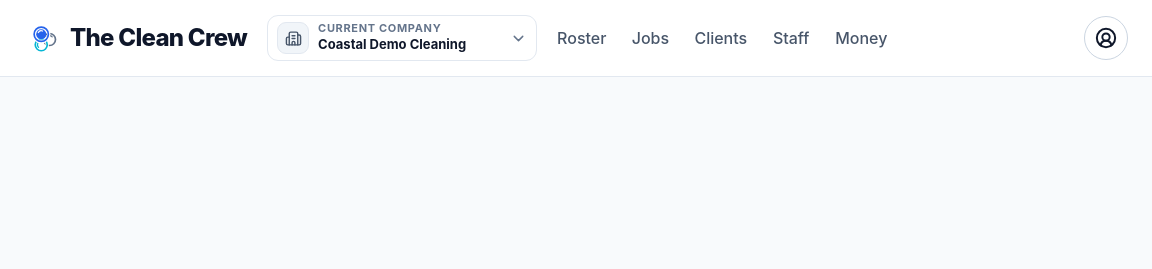
CrmHeader › offers personal settings to staff
Click the button named "Account menu" at x=1106, y=38, box [1084,16,1128,60]
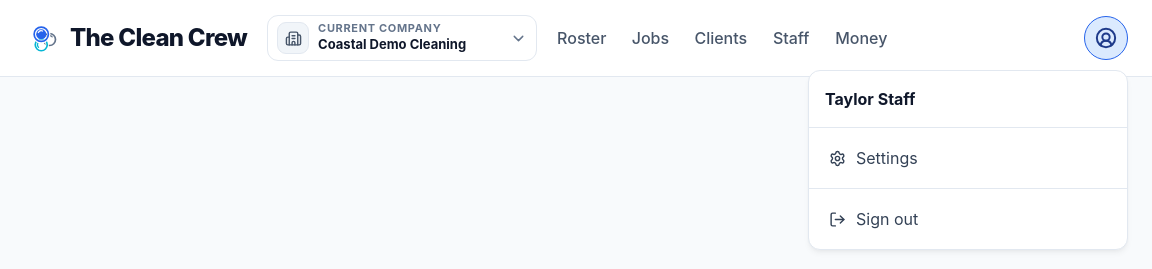
Check: the link "Settings" is shown, box [829,148,918,168]
